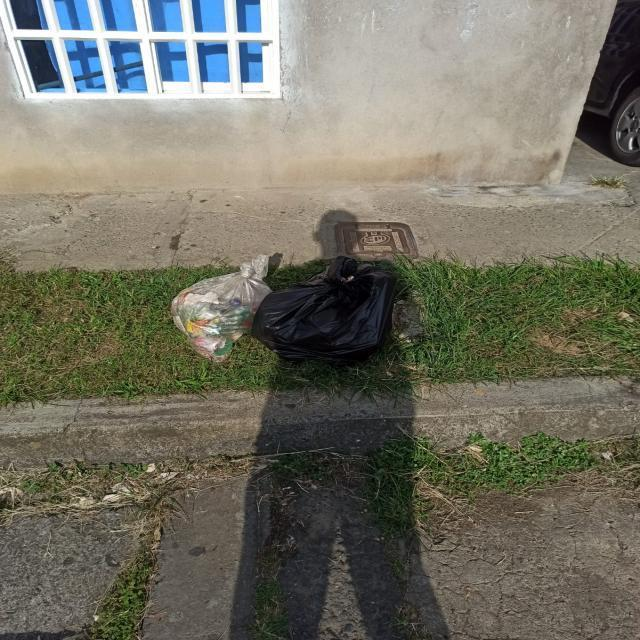Trashbag: (250, 260, 412, 363)
